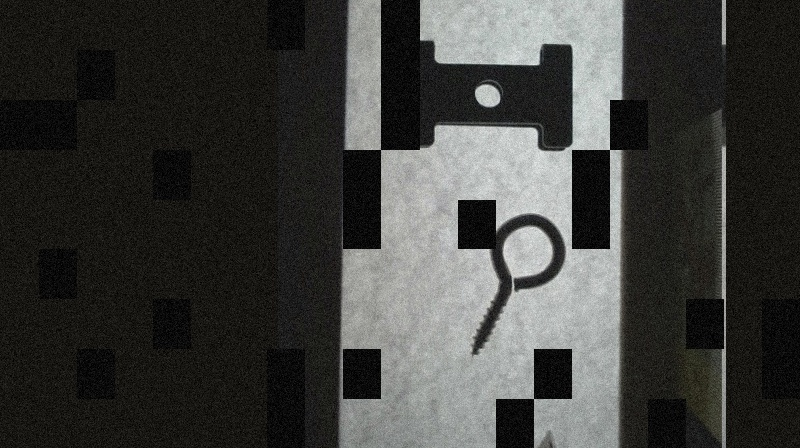O001: (464, 210, 567, 358)
O002: (401, 34, 576, 152)
S001: (387, 425, 564, 447)
